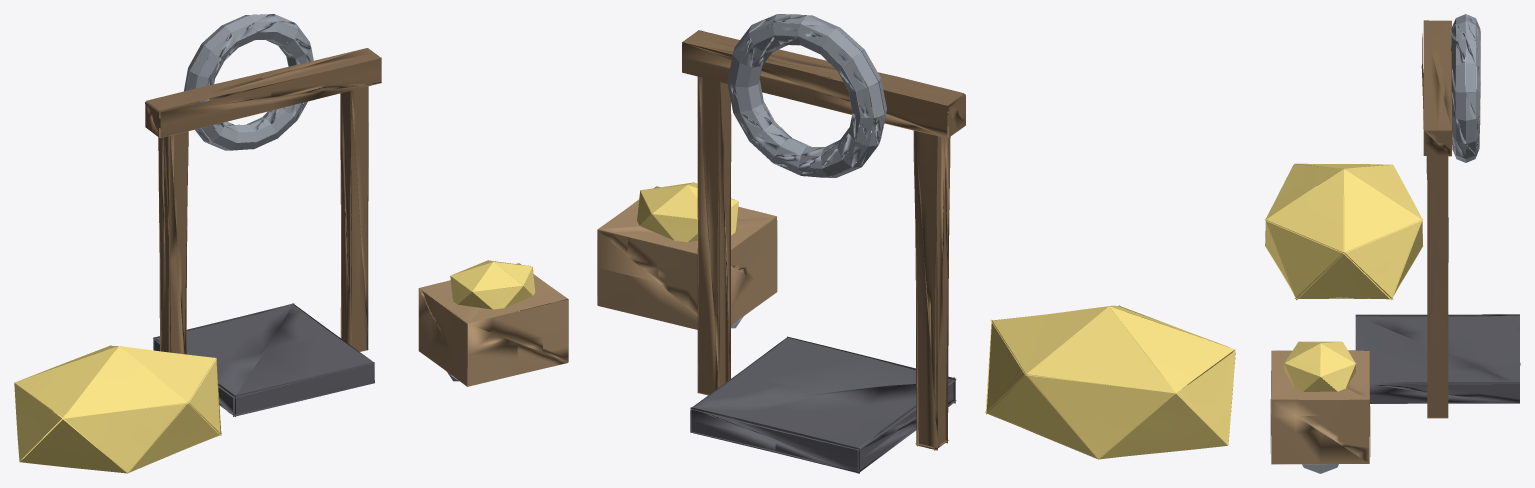
File: gold_mine.glb
3 renders of one model, left to right at view 1: azimuth 30°, elevation 25°; view 2: azimuth 150°, elevation 25°; view 3: azimuth 270°, elevation 25°, orthographic. The views are drawn at different scales.
Parts seen in each view (by area): view 1: GoldMineLegL; view 2: GoldMineLegL; view 3: GoldMineLegL.
Part boxes in pixels (bbox=[...]): GoldMineLegL: bbox=[14, 14, 568, 473]; GoldMineLegL: bbox=[597, 14, 1235, 473]; GoldMineLegL: bbox=[1265, 14, 1520, 473].
Size of the model in its own units: 2.55 by 1.73 by 1.09.
